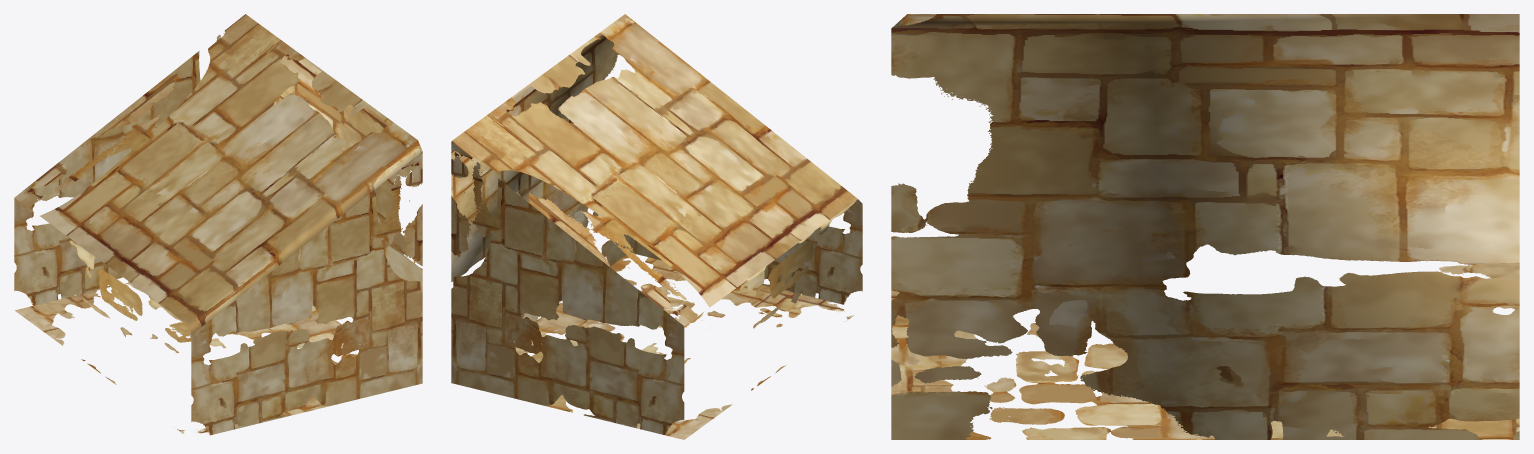
Rendered from High_Ground.FBX.
3 views of the same model, side by side, from view 1: azimuth 30°, elevation 25°; view 2: azimuth 150°, elevation 25°; view 3: azimuth 270°, elevation 25° (orthographic). The views are drawn at different scales.
Visible parts, largest first — view 1: Sol_leve; view 2: Sol_leve; view 3: Sol_leve.
Part boxes in pixels (x1,y1,x2,y2): Sol_leve: (14,14,422,435); Sol_leve: (451,14,862,439); Sol_leve: (891,14,1519,439).
Bounding box in the file's own units: 304 × 302 × 403.
